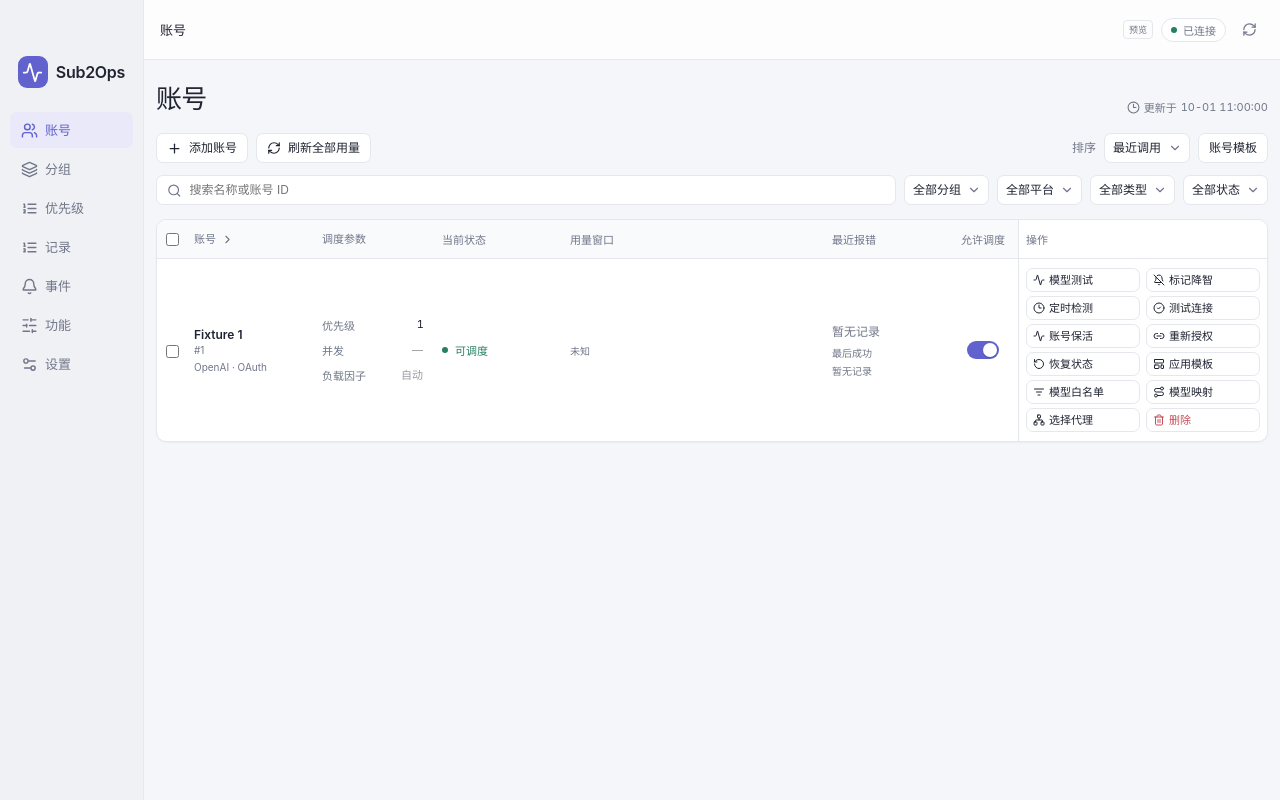
Test: shared account actions › opens and closes account keepalive from the macos account actions
The image size is (1280, 800).
Click the button "账号保活" at (1083, 336), box [1026,324,1140,348]
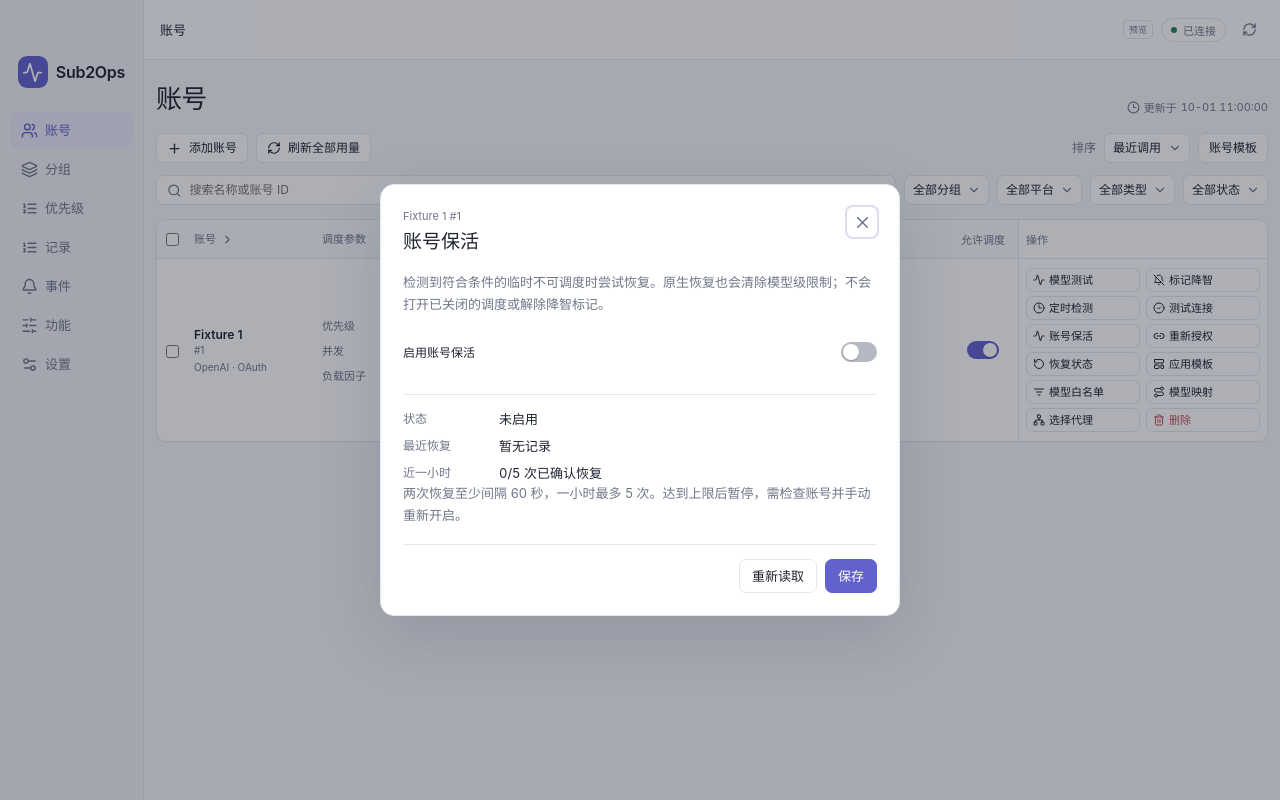
Expected: the dialog named "账号保活" shows "Fixture 1", [403,209,446,223]
Click the button named "关闭账号保活" at (862, 222), box [847,207,877,237]
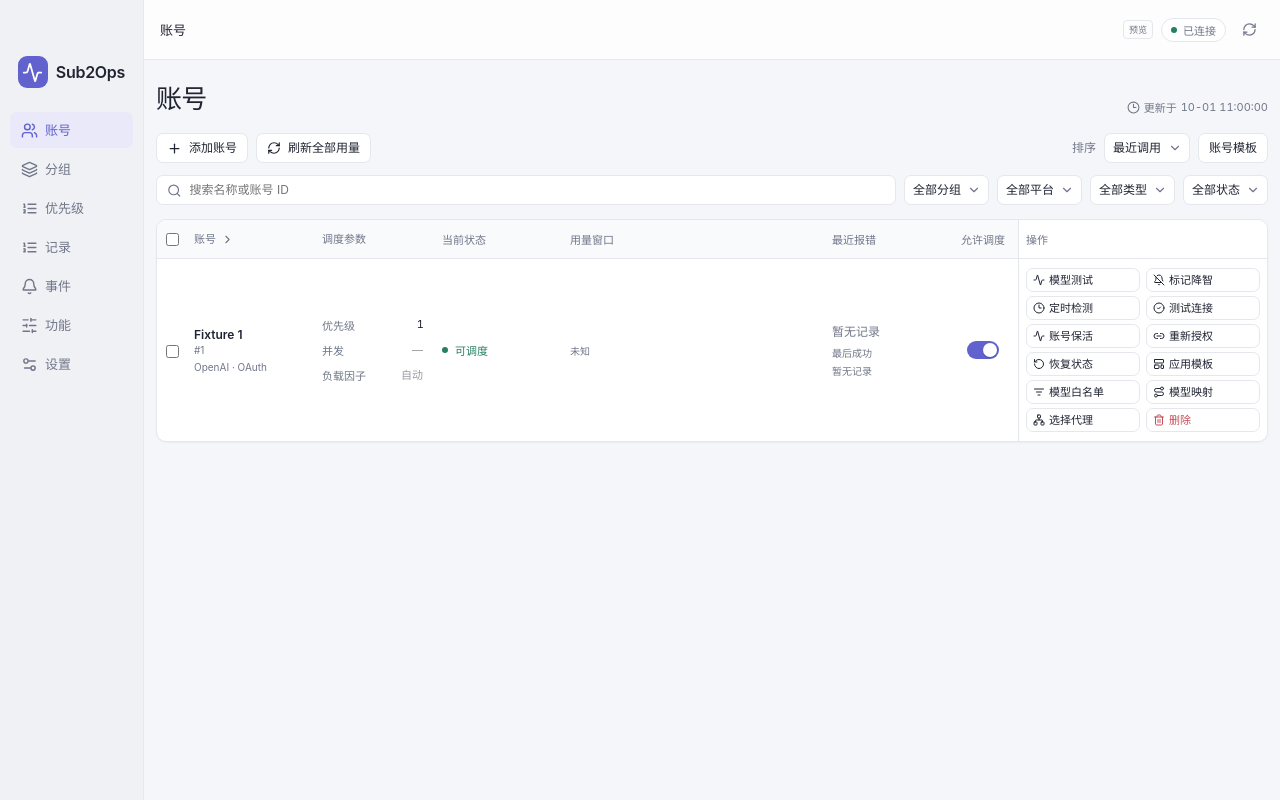
Expected: the dialog named "账号保活" is gone
